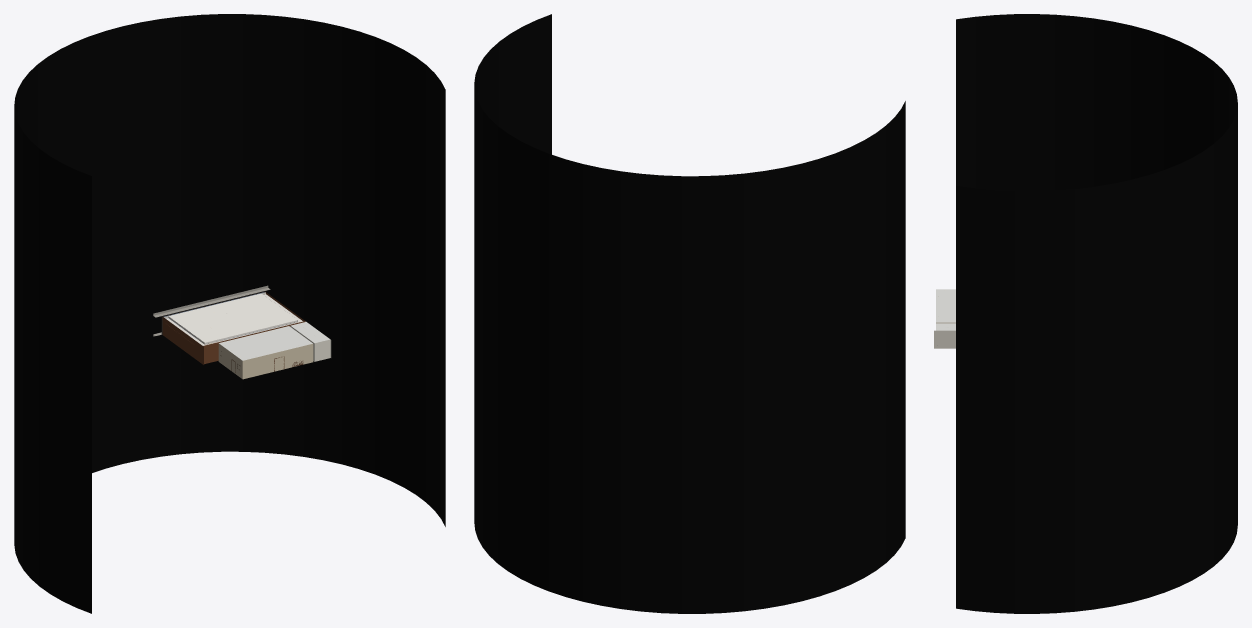
The model's file is abuja_office.glb.
The picture shows the model from 3 angles, left to right: view 1: azimuth 30°, elevation 25°; view 2: azimuth 150°, elevation 25°; view 3: azimuth 270°, elevation 25°; orthographic projection. The views are drawn at different scales.
Visible parts, largest first — view 1: Pano, Env; view 2: Pano; view 3: Pano, Env.
Part boxes in pixels (box(x1,y1,x2,y2)): Pano: box(14, 14, 445, 613); Env: box(153, 285, 331, 379); Pano: box(474, 14, 905, 613); Pano: box(956, 14, 1237, 613); Env: box(934, 289, 955, 348).
Bounding box in the file's own units: 71.96 × 80 × 52.1.
